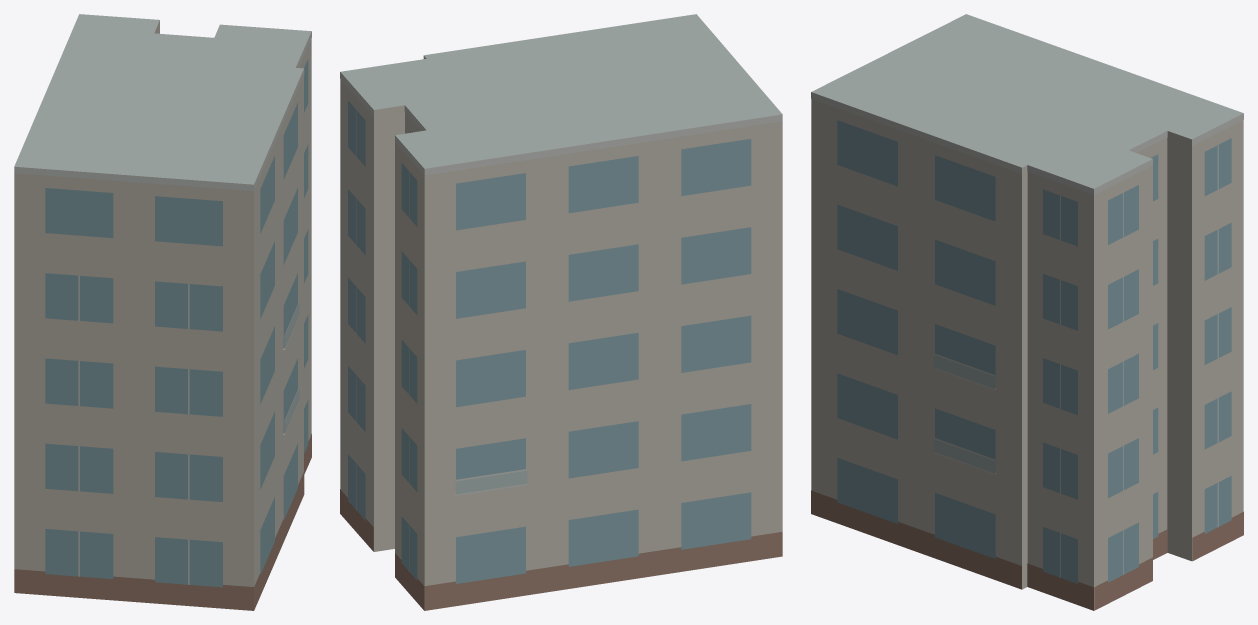
The model's file is survey-upis-32705060.glb.
3 renders of one model, left to right at view 1: azimuth 30°, elevation 25°; view 2: azimuth 150°, elevation 25°; view 3: azimuth 270°, elevation 25°, orthographic. The views are drawn at different scales.
Visible parts, largest first — view 1: survey-upis-32705060.tmp; view 2: survey-upis-32705060.tmp; view 3: survey-upis-32705060.tmp.
Boxes of the visible parts, left/top/right/bottom form: survey-upis-32705060.tmp: left=14, top=14, right=311, bottom=610; survey-upis-32705060.tmp: left=340, top=14, right=782, bottom=610; survey-upis-32705060.tmp: left=811, top=14, right=1243, bottom=610.
Size of the model in its own units: 14.15 by 15.9 by 14.79.
